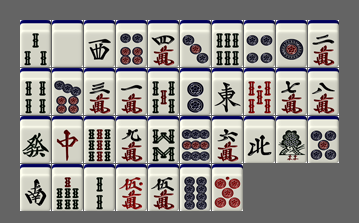0m: (116, 164, 147, 211)
0p: (212, 164, 243, 211)
0s: (244, 68, 275, 115)
1m: (116, 68, 147, 115)
1p: (276, 20, 307, 67)
1s: (276, 116, 307, 163)
1z: (212, 68, 243, 115)
2m: (308, 20, 339, 67)
2p: (180, 68, 211, 115)
2s: (84, 164, 115, 211)
2z: (20, 164, 51, 211)
3m: (84, 68, 115, 115)
3p: (180, 20, 211, 67)
3s: (20, 20, 51, 67)
3z: (84, 20, 115, 67)
4m: (148, 20, 179, 67)
4p: (244, 20, 275, 67)
4s: (20, 68, 51, 115)
4z: (244, 116, 275, 163)
5m: (148, 164, 179, 211)
5p: (308, 116, 339, 163)
5s: (148, 68, 179, 115)
5z: (52, 20, 83, 67)
6m: (212, 116, 243, 163)
6p: (116, 20, 147, 67)
6s: (212, 20, 243, 67)
6z: (20, 116, 51, 163)
7m: (276, 68, 307, 115)
7p: (52, 68, 83, 115)
7s: (52, 164, 83, 211)
7z: (52, 116, 83, 163)
8m: (308, 68, 339, 115)
8p: (180, 164, 211, 211)
8s: (148, 116, 179, 163)
9m: (116, 116, 147, 163)
9p: (180, 116, 211, 163)
9s: (84, 116, 115, 163)
